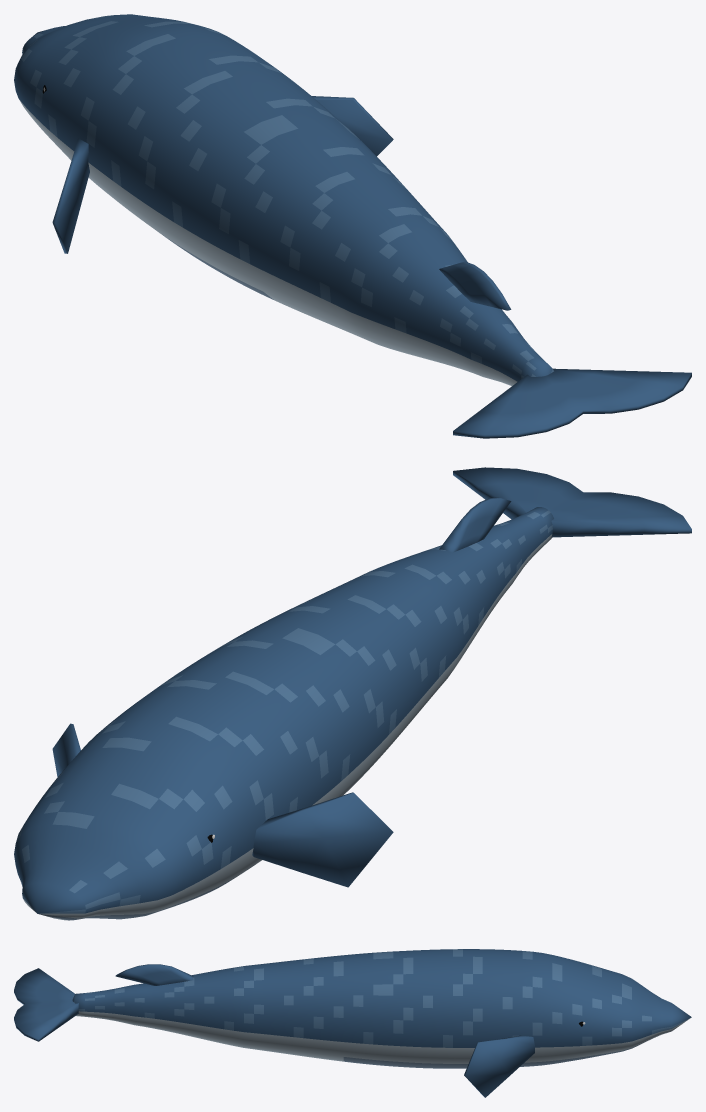
Rendered from blue_whale.glb.
The picture shows the model from 3 angles, top to bottom: view 1: azimuth 30°, elevation 25°; view 2: azimuth 150°, elevation 25°; view 3: azimuth 270°, elevation 25°; orthographic projection. The views are drawn at different scales.
Visible parts, largest first — view 1: blue_whale; view 2: blue_whale; view 3: blue_whale.
Part boxes in pixels (x1,y1,x2,y2): blue_whale: (14, 14, 691, 438); blue_whale: (14, 467, 691, 920); blue_whale: (14, 949, 691, 1097).
Bounding box in the file's own units: 1.07 × 0.5123 × 3.01.
